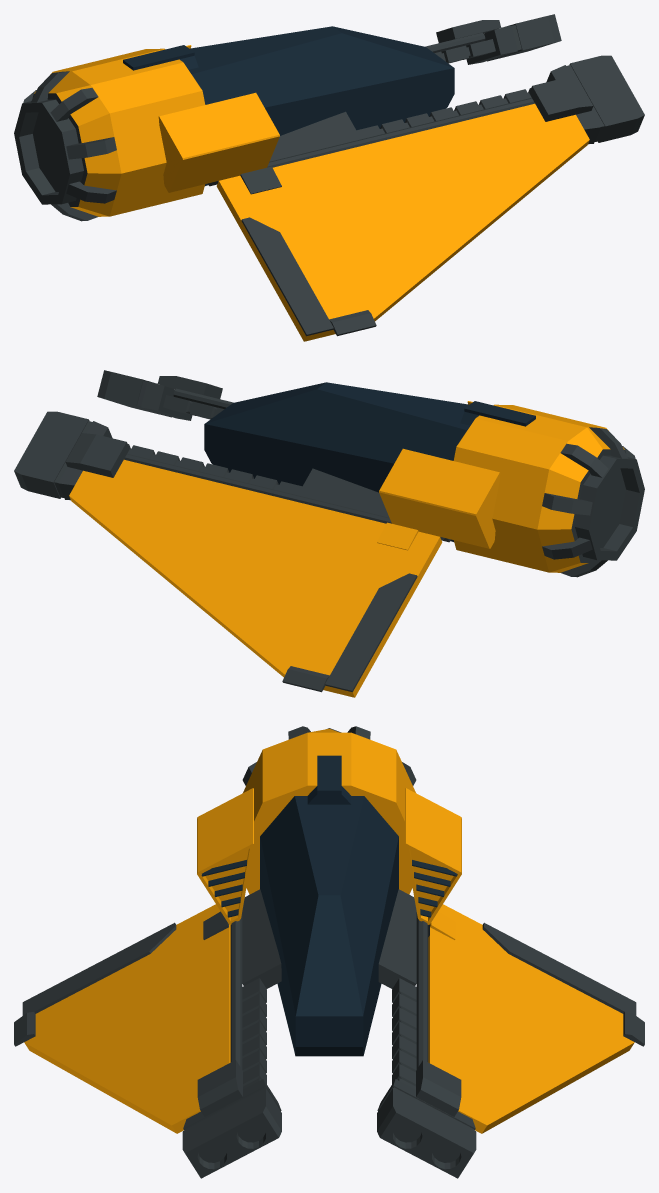
3 views of the same model, one above another, from view 1: azimuth 30°, elevation 25°; view 2: azimuth 150°, elevation 25°; view 3: azimuth 270°, elevation 25° (orthographic). The views are drawn at different scales.
Parts seen in each view (by area): view 1: Plane.020, Cylinder.003, Cube.015; view 2: Plane.020, Cylinder.003, Cube.015; view 3: Plane.020, Cube.015, Cylinder.003.
Part boxes in pixels (<box>): Plane.020: <box>158,14,644,341</box>; Cylinder.003: <box>14,48,205,221</box>; Cube.015: <box>123,26,454,185</box>; Plane.020: <box>14,370,500,697</box>; Cylinder.003: <box>453,404,644,577</box>; Cube.015: <box>204,382,535,541</box>; Plane.020: <box>14,788,644,1178</box>; Cube.015: <box>260,755,398,1056</box>; Cylinder.003: <box>242,726,416,894</box>.
Bounding box in the file's own units: 6.19 × 2.14 × 5.33.
